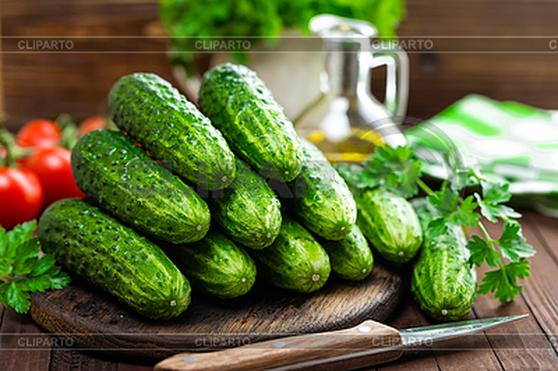cucumber: (41, 206, 189, 317), (75, 136, 211, 239), (115, 73, 238, 182), (212, 64, 295, 175), (412, 217, 477, 315)
